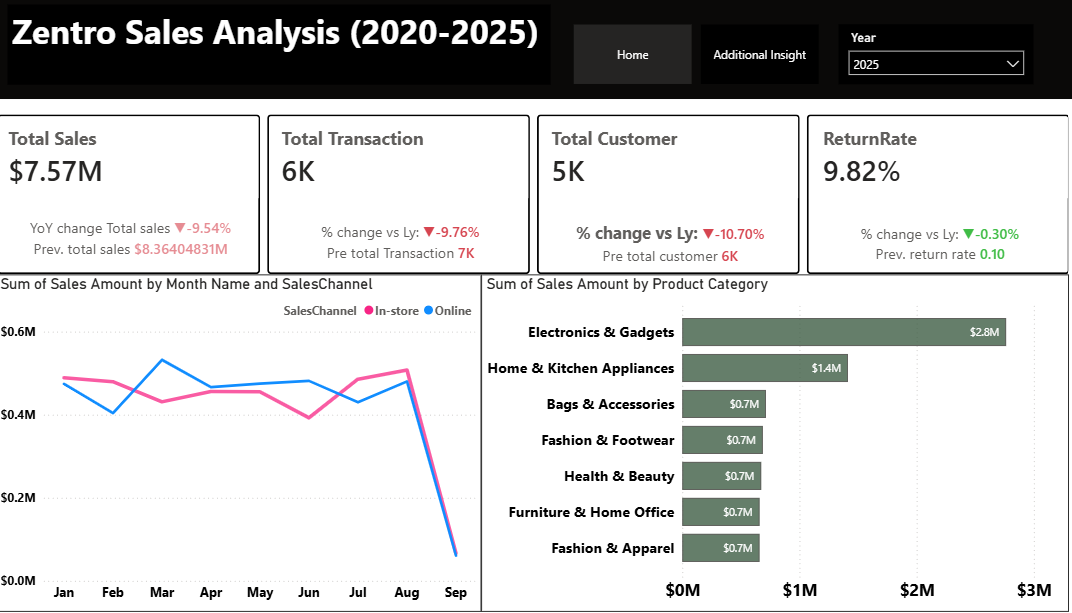

The dashboard page shown, as its layout file describes it:
{"tool":"powerbi","page":{"name":"Home","canvas":[1280,720],"ordinal":0},"visuals":[{"type":"shape","box":[50.8,0,1229.5,126.2],"z":0},{"type":"cardVisual","fields":{"Data":["_MEASURE.Total Sales","_MEASURE.Total Transaction","_MEASURE.Total Customer","_MEASURE.ReturnRate"]},"box":[36.6,126.8,1243.7,214.1],"z":1000},{"type":"slicer","fields":{"Values":["DATE Table.Year"]},"box":[1001.7,42.5,219.6,67.2],"z":2000},{"type":"lineChart","fields":{"Y":["Sum(zentro.Sales Amount)"],"Category":["DATE Table.Month Name"],"Series":["zentro.SalesChannel"]},"box":[50.7,323.9,547.9,380.3],"z":3000},{"type":"barChart","fields":{"Y":["Sum(zentro.Sales Amount)"],"Category":["zentro.Product Category"]},"box":[598.6,323.9,663.4,380.3],"z":4000},{"type":"pageNavigator","box":[702.6,42.5,277.2,67.2],"z":5000},{"type":"textbox","box":[64.5,19.2,612,90.6],"z":6000}]}

Visuals, with their boxes in screenshot pixels (x1, y1, x2, y2), scaled from the page's 1280x720 canvas onto the 1072x613 screenshot:
shape: Rect(43, 0, 1071, 107)
cardVisual - _MEASURE.Total Sales x _MEASURE.Total Transaction: Rect(31, 108, 1071, 290)
slicer - DATE Table.Year: Rect(839, 36, 1023, 93)
lineChart - Sum(zentro.Sales Amount) x DATE Table.Month Name: Rect(42, 276, 501, 600)
barChart - Sum(zentro.Sales Amount) x zentro.Product Category: Rect(501, 276, 1057, 600)
pageNavigator: Rect(588, 36, 821, 93)
textbox: Rect(54, 16, 567, 93)
